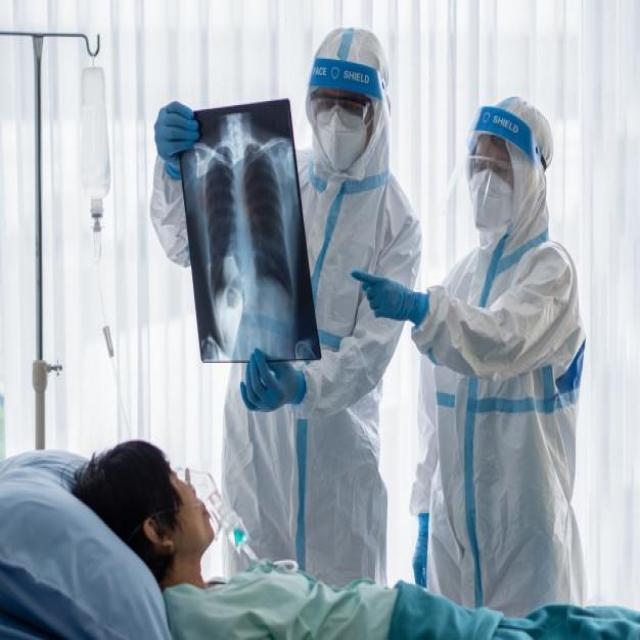Coverall: (147, 20, 419, 580), (411, 97, 589, 606)
Gloves: (351, 268, 429, 326), (238, 347, 307, 412), (152, 100, 201, 169), (412, 509, 429, 587)
Goggles: (304, 90, 372, 131), (466, 147, 521, 190)
Mask: (318, 108, 369, 168), (469, 168, 509, 229)
